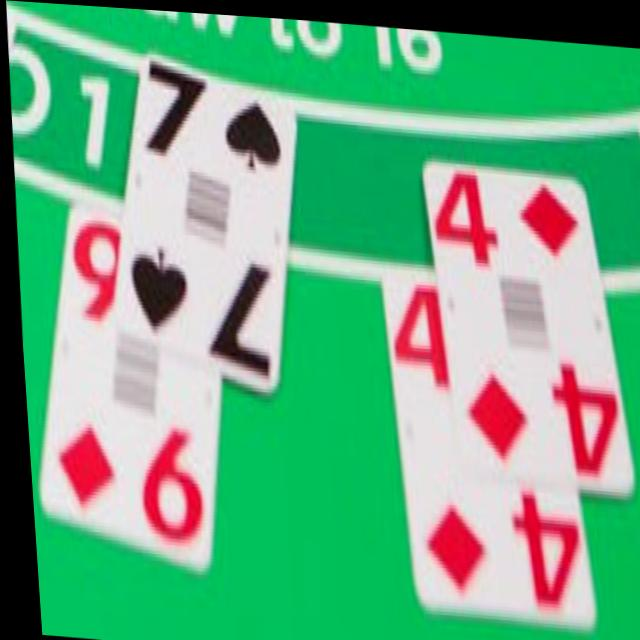Card-4: (376, 269, 587, 622), (421, 155, 629, 481)
Card-7: (114, 46, 293, 383)
Card-9: (34, 199, 215, 571)
